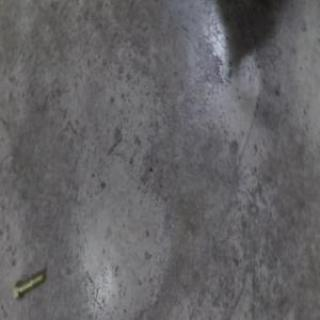Bolttrack_idkeyframe: (14, 268, 45, 298)
